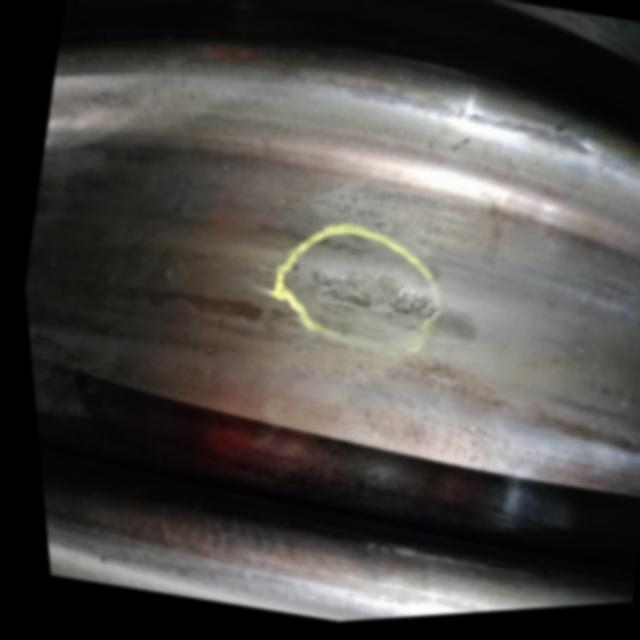Rollerpile: (309, 268, 493, 360)
